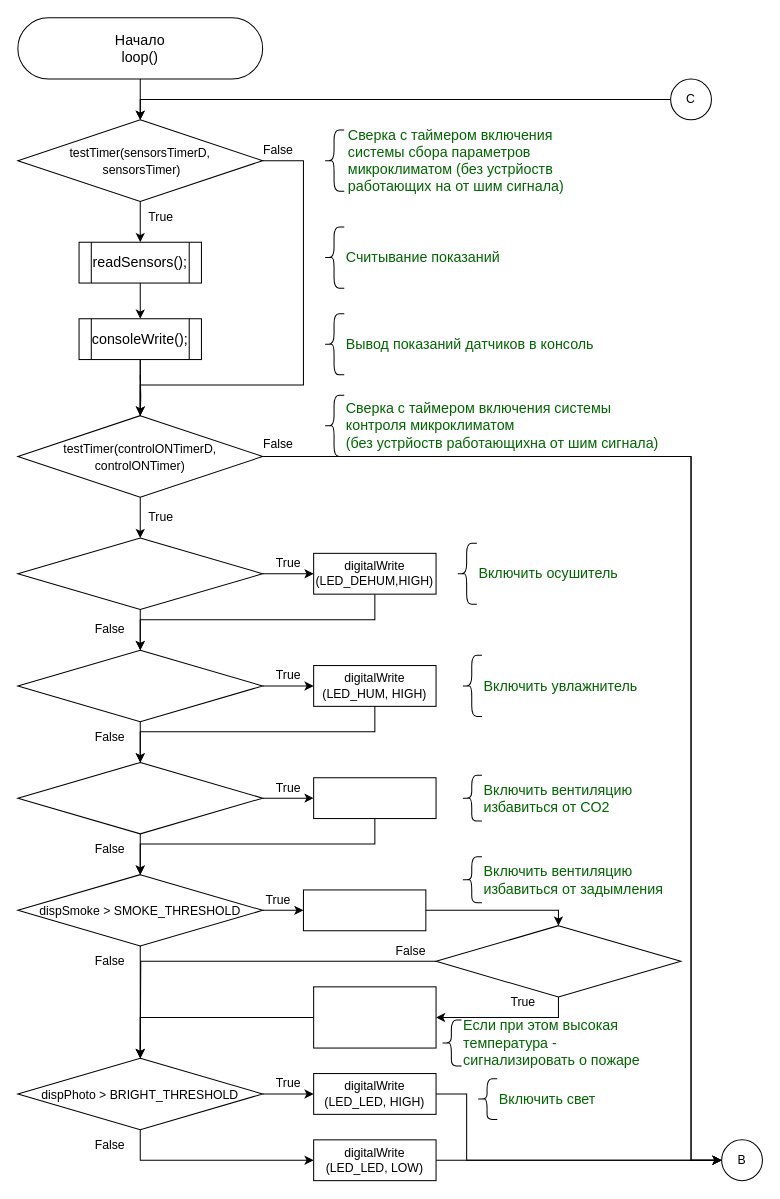
Some shapes in this 780 by 1199 pixel diagram are drawn without their labels. The shapes that lost their labels are listed below. From the top down, each one's centre as x and y in pixels, then its label:
the point at 140,573: dispHum > HUM_MAX_THRESHOLD
the point at 140,685: dispHum < HUM_MIN_THRESHOLD
the point at 140,797: dispCO2 > CO2_THRESHOLD
the point at 374,798: digitalWrite (LED_VENT, HIGH)
the point at 364,910: digitalWrite (LED_VENT, HIGH);
the point at 558,961: dispTemp > TEMP_MAX_THRESHOLD_2
the point at 374,1017: digitalWrite (BUZZER, HIGH); fire = true;
